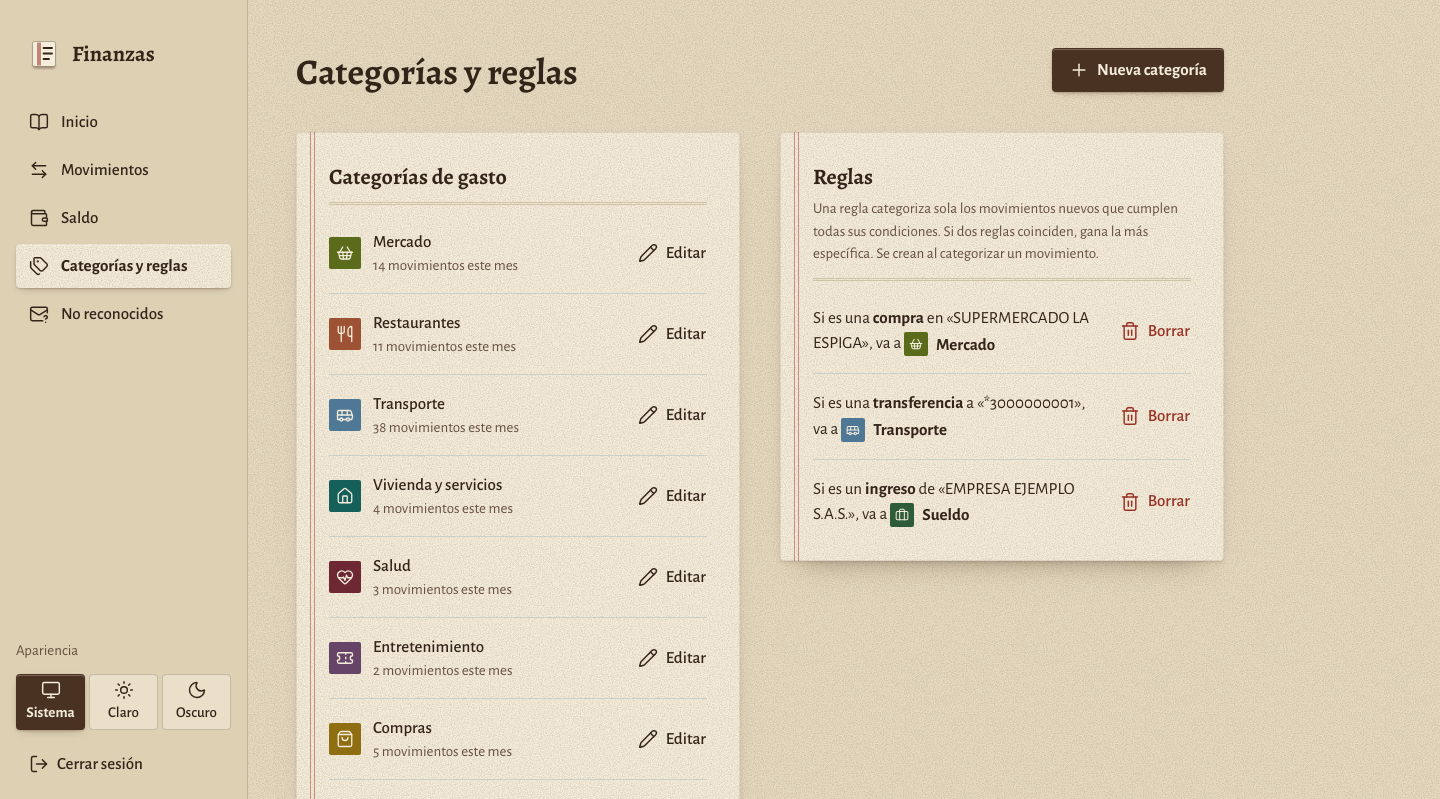
Test: Categorías y reglas › borrar una regla es tocar y deshacer: sin confirmación
This screenshot has width=1440, height=799.
Click the button named "Borrar regla" at [1155, 502], box [1107,480,1203,524]
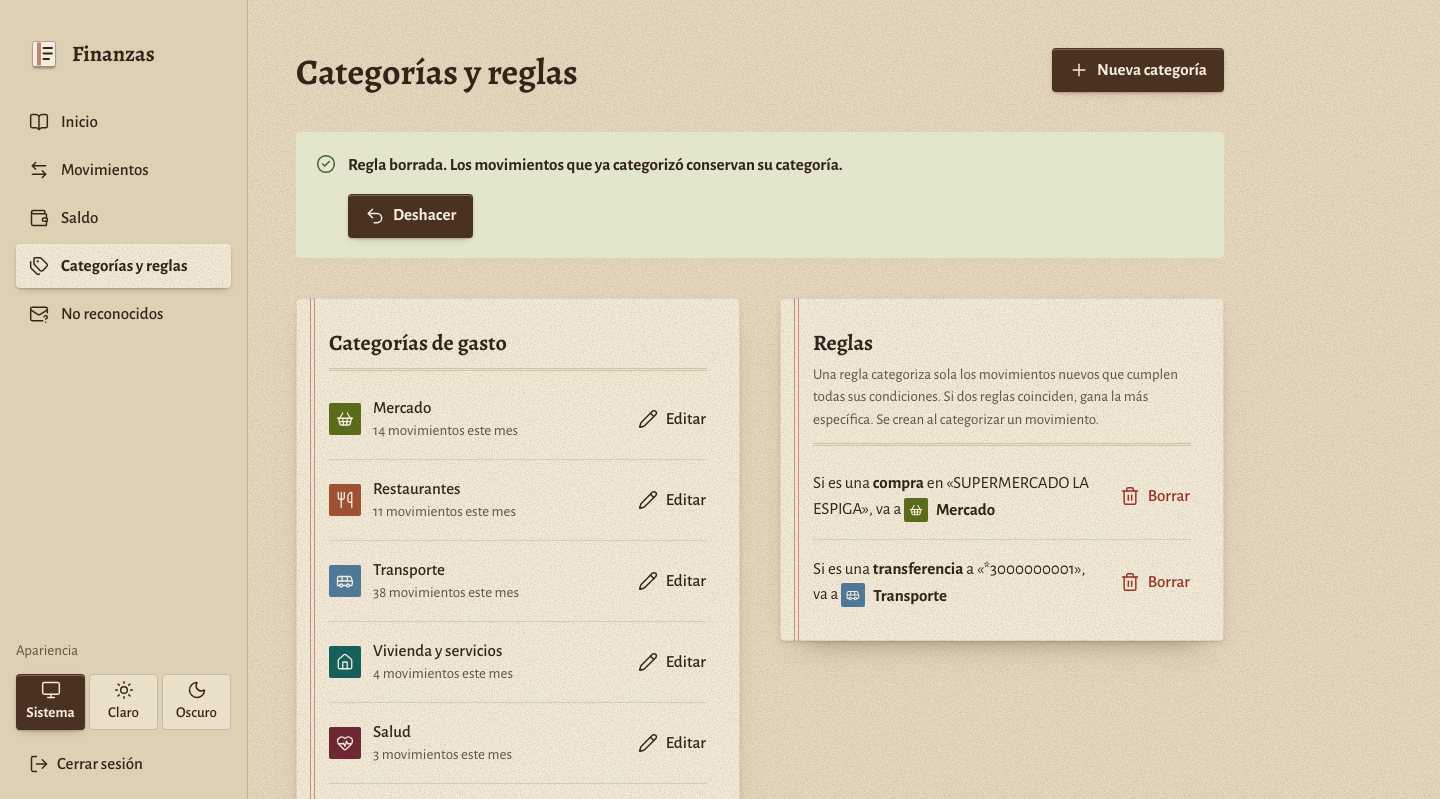
Expected: the message shows "Regla borrada. Los movimientos que ya categorizó conservan su categoría.", [348,156,843,173]
Expected: the button "Deshacer" is shown, [348,194,473,238]
